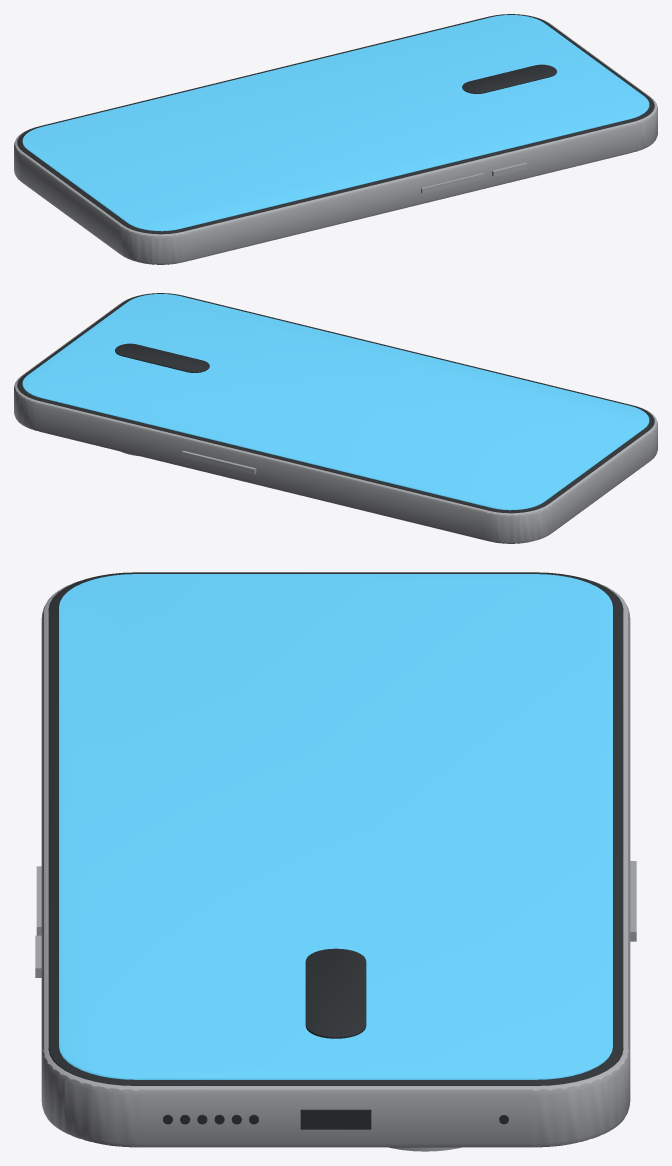
File: iphone18pro.glb
3 renders of one model, top to bottom at view 1: azimuth 30°, elevation 25°; view 2: azimuth 150°, elevation 25°; view 3: azimuth 270°, elevation 25°, orthographic. The views are drawn at different scales.
Visible parts, largest first — view 1: Display, Frame, Details; view 2: Display, Frame, Details; view 3: Display, Frame, Details.
Part boxes in pixels (bbox=[...]): Display: bbox=[22, 15, 649, 231]; Frame: bbox=[14, 19, 657, 264]; Details: bbox=[17, 14, 654, 234]; Display: bbox=[22, 294, 649, 510]; Frame: bbox=[14, 298, 657, 543]; Details: bbox=[17, 293, 654, 513]; Display: bbox=[59, 574, 612, 1079]; Frame: bbox=[35, 578, 636, 1151]; Details: bbox=[48, 572, 623, 1129].
Size of the model in its own units: 0.15 by 0.0128 by 0.0734.
